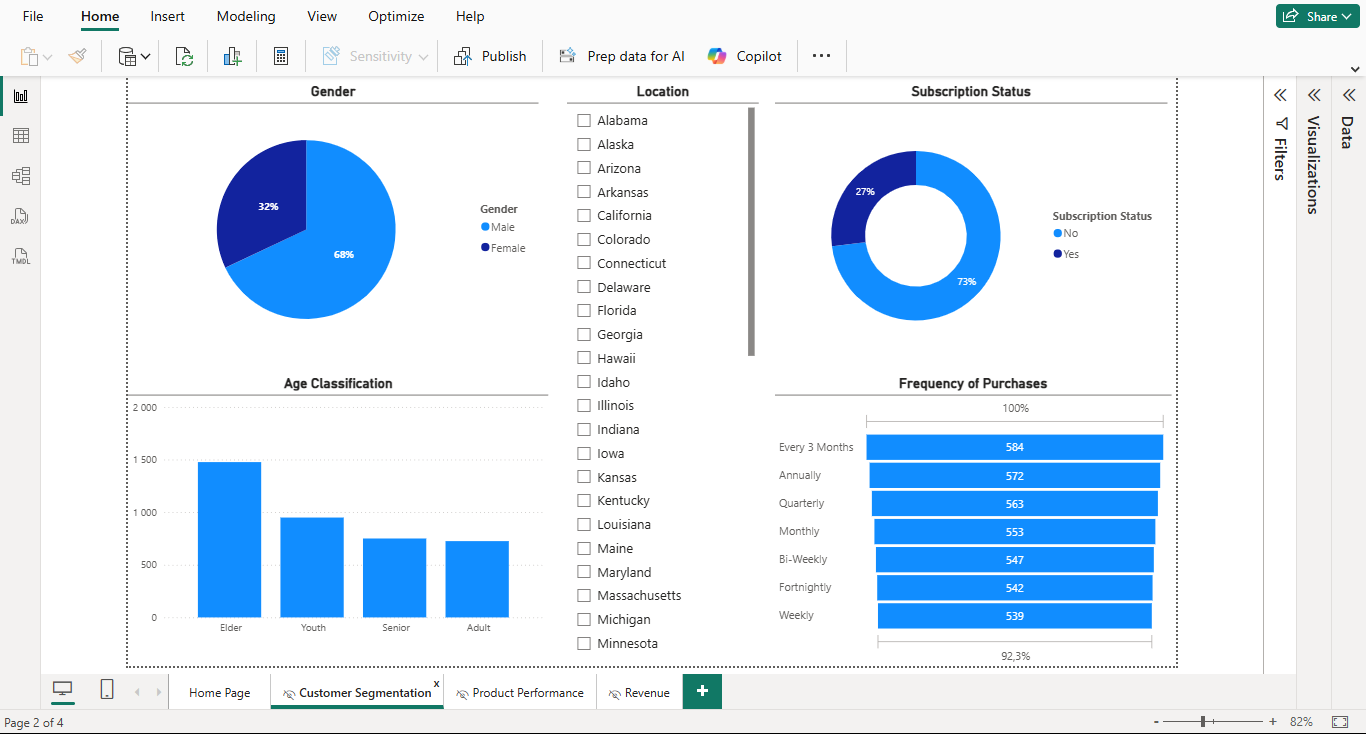

Layout of this report page (visuals, bound fields, positions):
{"tool":"powerbi","page":{"name":"Customer Segmentation","canvas":[1280,720],"ordinal":1},"visuals":[{"type":"pieChart","title":"Gender","fields":{"Category":["shopping_trends_with_processdate.Gender"],"Y":["CountNonNull(shopping_trends_with_processdate.Customer ID)"]},"box":[0,8.3,501,331.7],"z":0},{"type":"columnChart","title":"Age Classification","fields":{"Category":["shopping_trends_with_processdate.Age Grouping"],"Y":["CountNonNull(shopping_trends_with_processdate.Customer ID)"]},"box":[0,364.7,513.4,324.8],"z":1000},{"type":"slicer","title":"Location","fields":{"Values":["shopping_trends_with_processdate.Location"]},"box":[535.4,8.3,234,697.8],"z":2000},{"type":"funnel","title":" Frequency of Purchases","fields":{"Category":["shopping_trends_with_processdate.Frequency of Purchases"],"Y":["CountNonNull(shopping_trends_with_processdate.Customer ID)"]},"box":[789.5,364.5,483.8,356.1],"z":3000},{"type":"donutChart","title":"Subscription Status","fields":{"Category":["shopping_trends_with_processdate.Subscription Status"],"Y":["CountNonNull(shopping_trends_with_processdate.Customer ID)"]},"box":[790,8.3,479,346.8],"z":4000}]}

Visuals, with their boxes on the page's 1280x720 design canvas (x1, y1, x2, y2). These are canvas units, not pixel positions in the 1366x734 screenshot, which may show the page scaled, cropped or inside an application window:
"Gender" pieChart: 0:8:501:340
"Age Classification" columnChart: 0:365:513:690
"Location" slicer: 535:8:769:706
" Frequency of Purchases" funnel: 790:364:1273:721
"Subscription Status" donutChart: 790:8:1269:355
